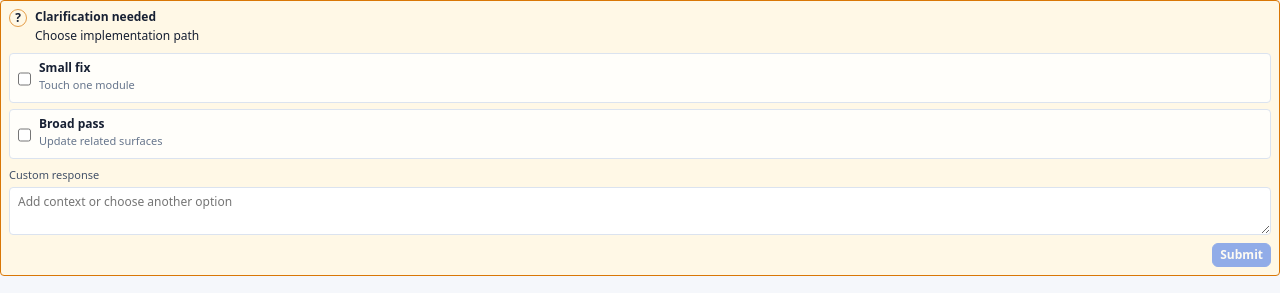
Test: ChatTaskConfirmationItem › keeps submit disabled until an option or custom response is present
Check: the button with test id "task-confirmation-submit" is disabled, box [1212,243,1271,267]
In the text box with test id "task-confirmation-custom": (640, 211) [9,187,1271,235], type "Different option"
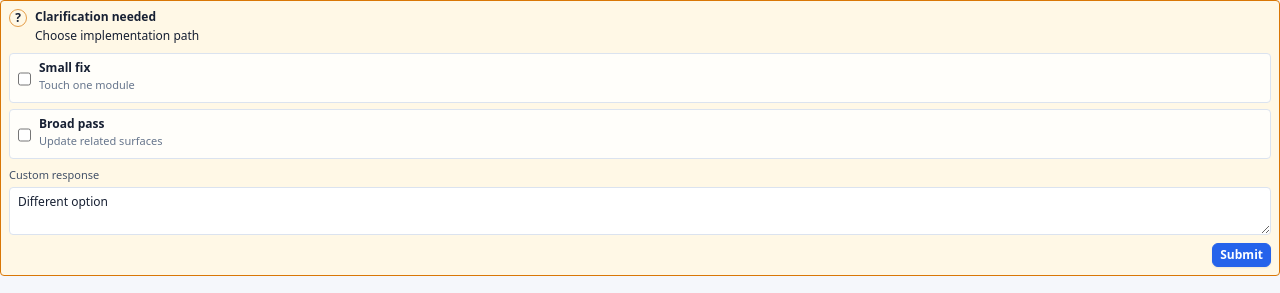
Check: the button with test id "task-confirmation-submit" is enabled, box [1212,243,1271,267]
